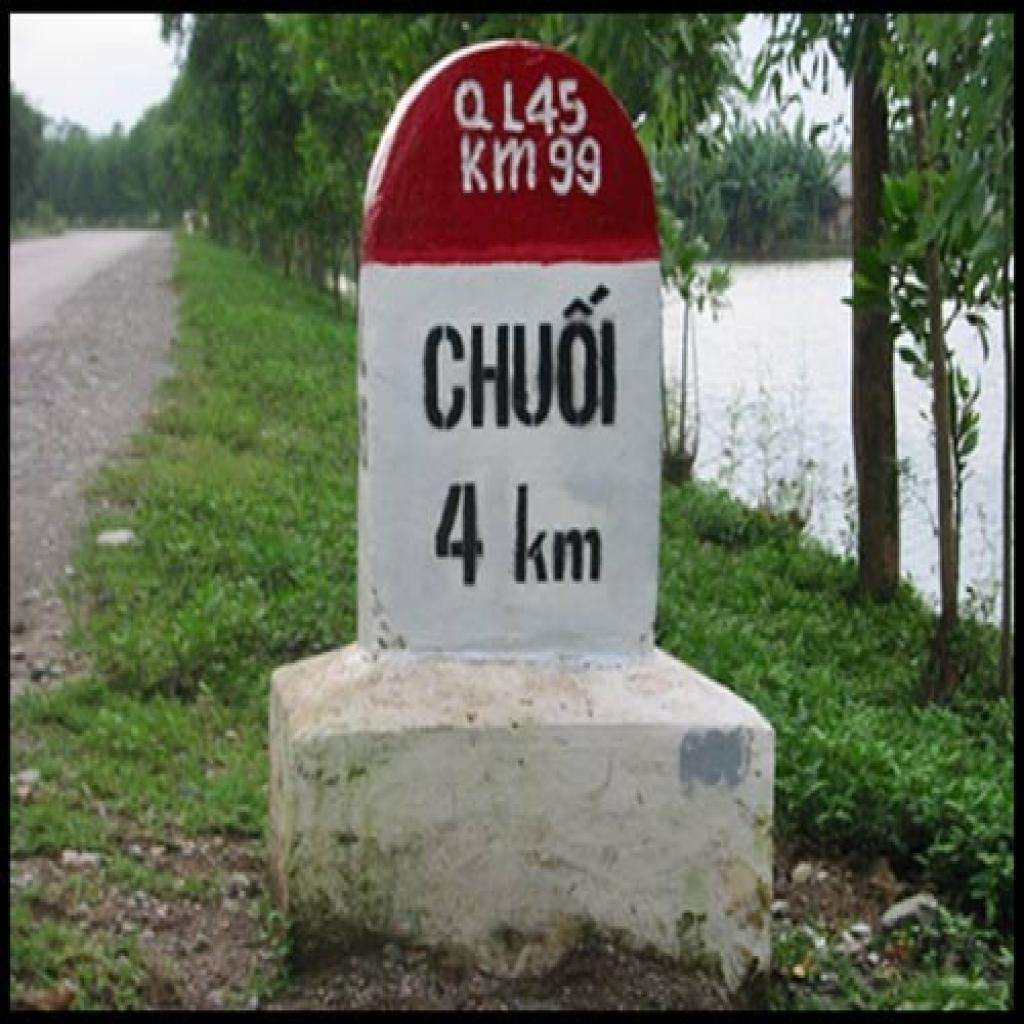text: (418, 285, 624, 432), (452, 73, 590, 133), (424, 478, 489, 595), (452, 136, 542, 198), (547, 136, 606, 201)
